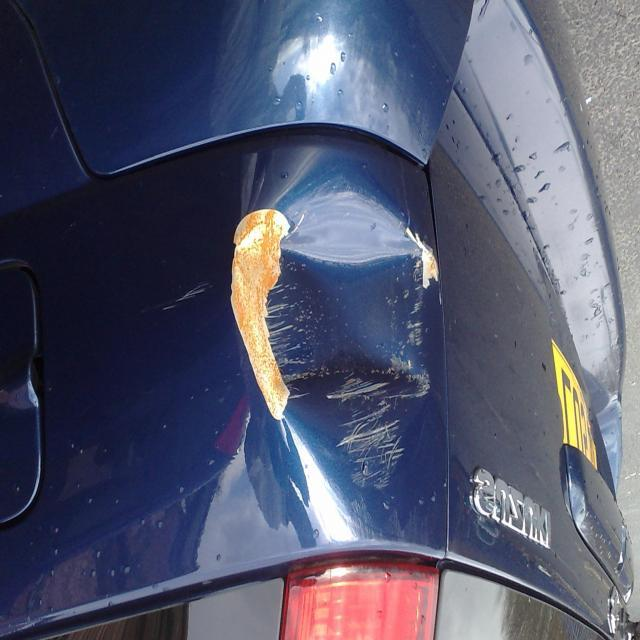dent: (215, 195, 486, 480)
